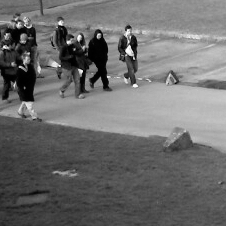person: (59, 33, 84, 99), (16, 52, 40, 119), (88, 28, 113, 92), (119, 25, 139, 88), (2, 41, 20, 100), (53, 16, 69, 82), (75, 32, 88, 93), (22, 16, 37, 46), (17, 32, 34, 57), (14, 19, 25, 35), (1, 29, 14, 42), (11, 12, 21, 21)
